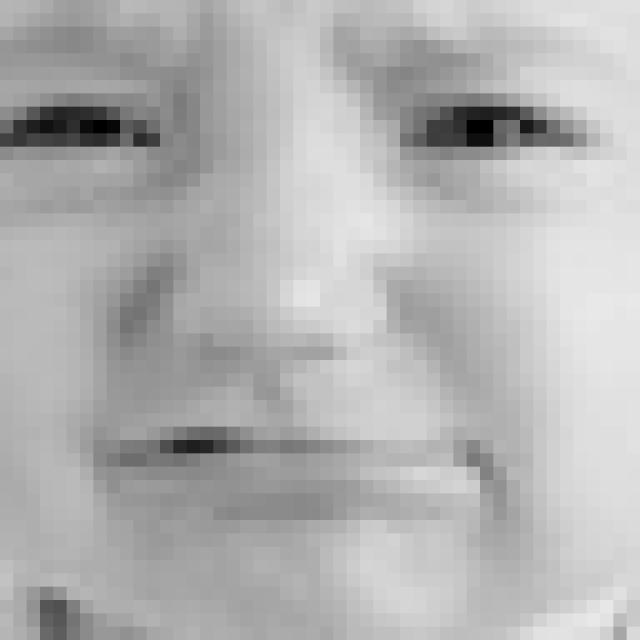sad: (0, 0, 603, 570)
